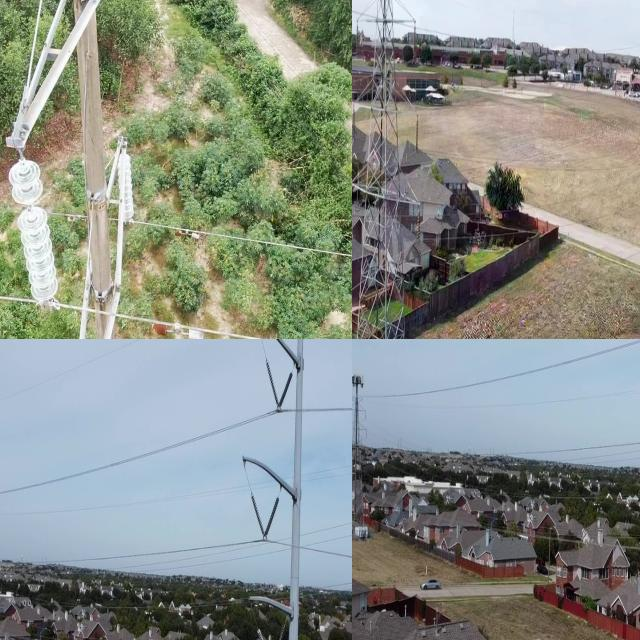杆塔: (1, 0, 155, 339), (352, 0, 424, 339), (352, 366, 372, 539)
正常绝缘子: (0, 154, 59, 315), (114, 147, 140, 230), (271, 360, 302, 420), (244, 480, 270, 544), (259, 489, 285, 546), (259, 347, 281, 414), (251, 613, 268, 640), (273, 616, 289, 640), (414, 203, 423, 244), (354, 18, 361, 59), (412, 18, 418, 64), (414, 112, 420, 155), (352, 101, 357, 138)
绝缘子破损: (24, 204, 36, 212)
